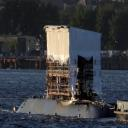submarine: (16, 100, 106, 114)
